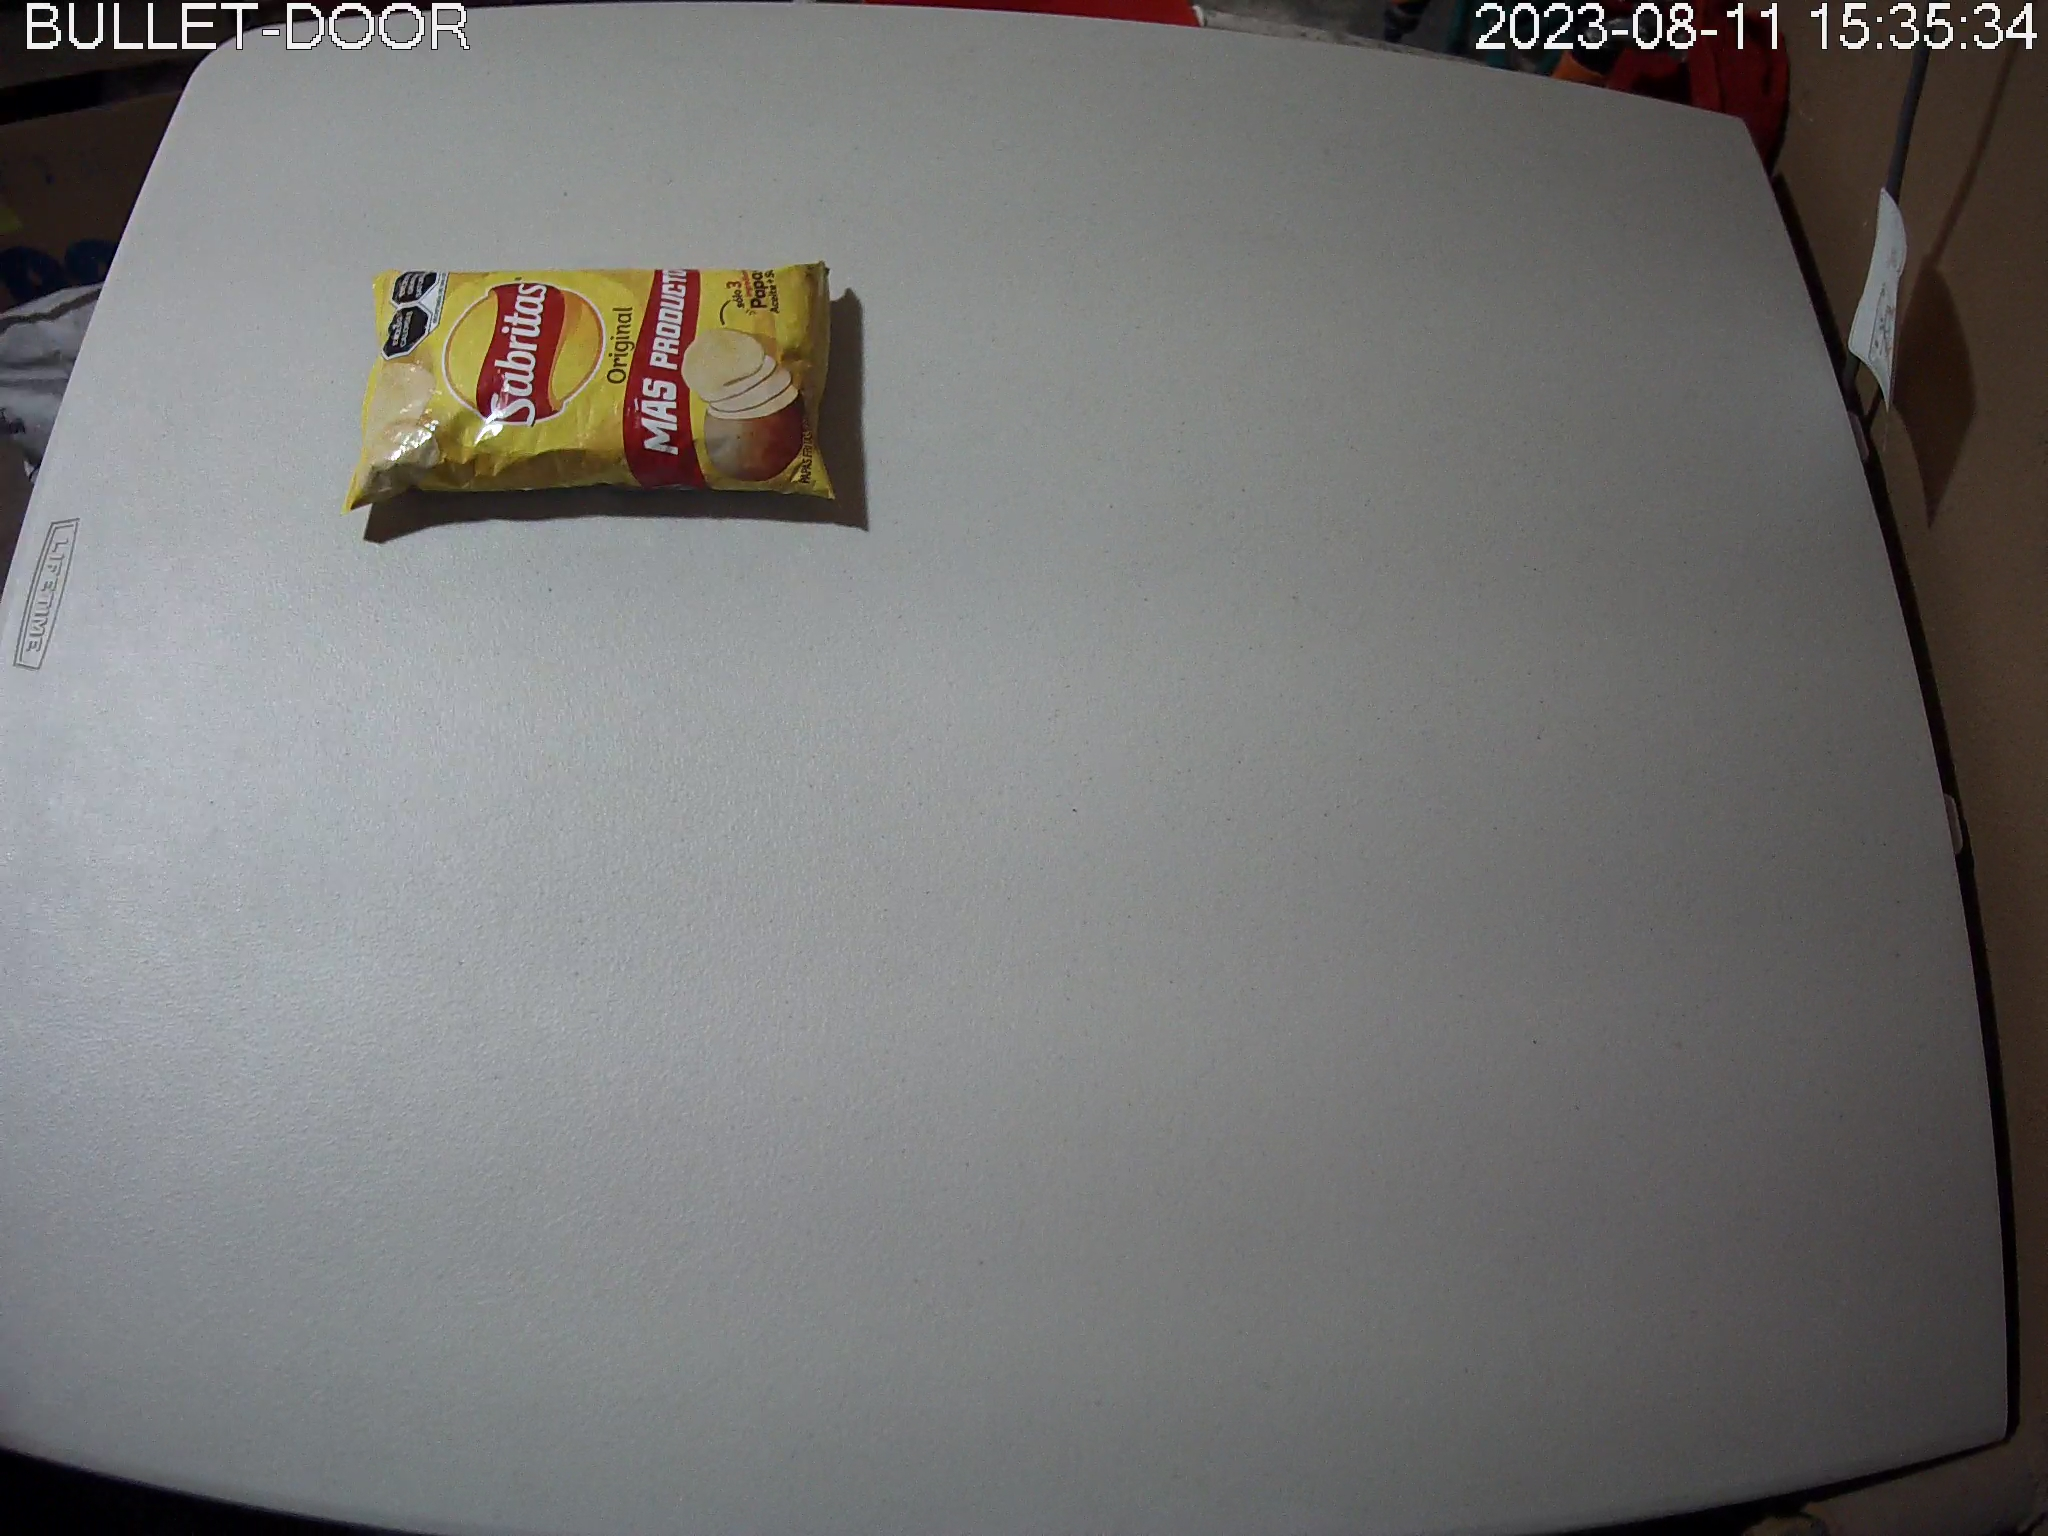Sabritas_45_F: (340, 260, 847, 513)
